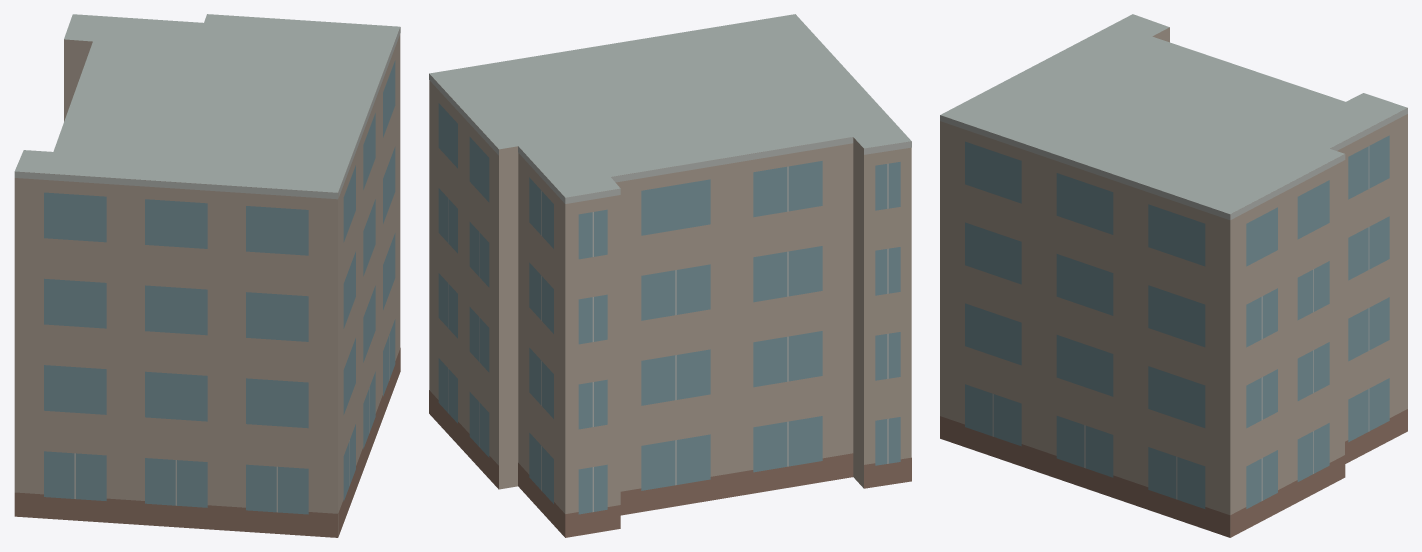
File: survey-upis-33009746.glb
3 views of the same model, side by side, from view 1: azimuth 30°, elevation 25°; view 2: azimuth 150°, elevation 25°; view 3: azimuth 270°, elevation 25° (orthographic). The views are drawn at different scales.
Visible parts, largest first — view 1: survey-upis-33009746.tmp; view 2: survey-upis-33009746.tmp; view 3: survey-upis-33009746.tmp.
Boxes of the visible parts, x1,y1,x2,y2 form: survey-upis-33009746.tmp: (14,14,400,537); survey-upis-33009746.tmp: (429,14,911,537); survey-upis-33009746.tmp: (940,14,1407,537).
Bounding box in the file's own units: 17.33 × 13.05 × 17.1.
